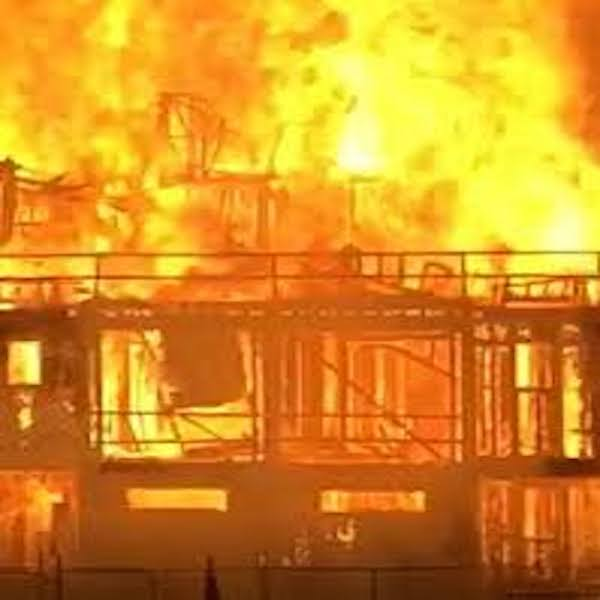fire: (1, 3, 592, 284), (101, 331, 178, 458), (490, 489, 599, 578), (327, 489, 425, 511), (125, 490, 228, 507), (10, 344, 39, 383)
